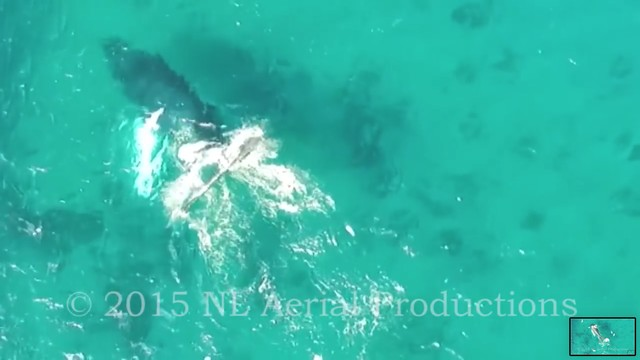whale: (97, 27, 303, 264)
